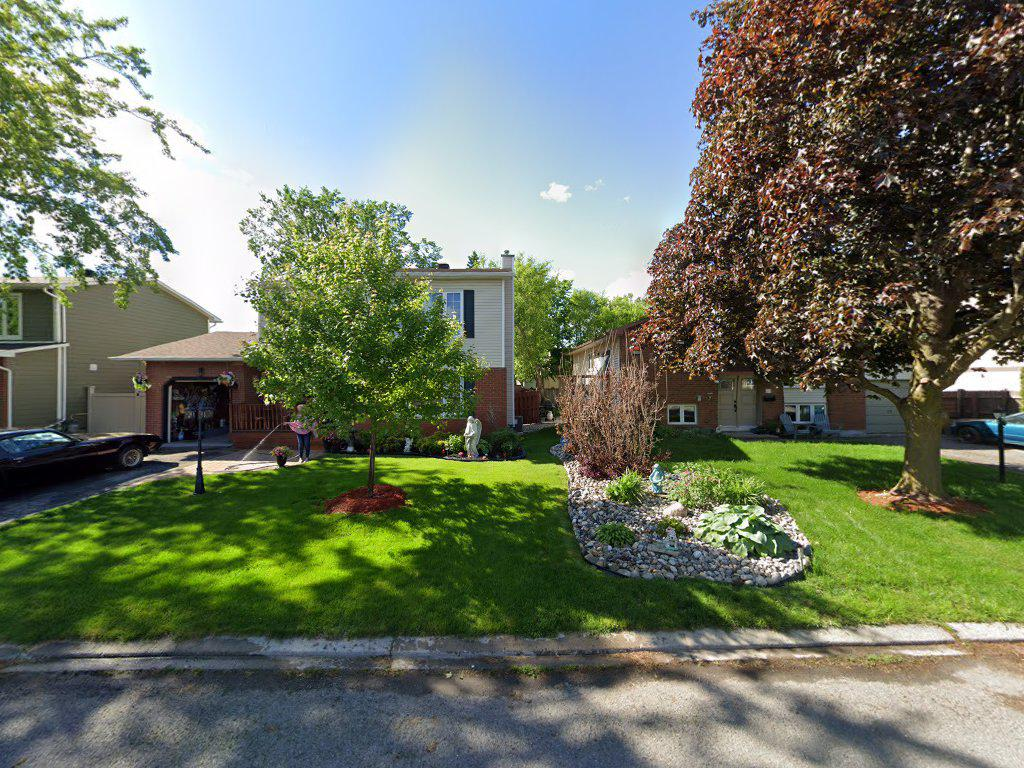trunk: (895, 277, 968, 536)
